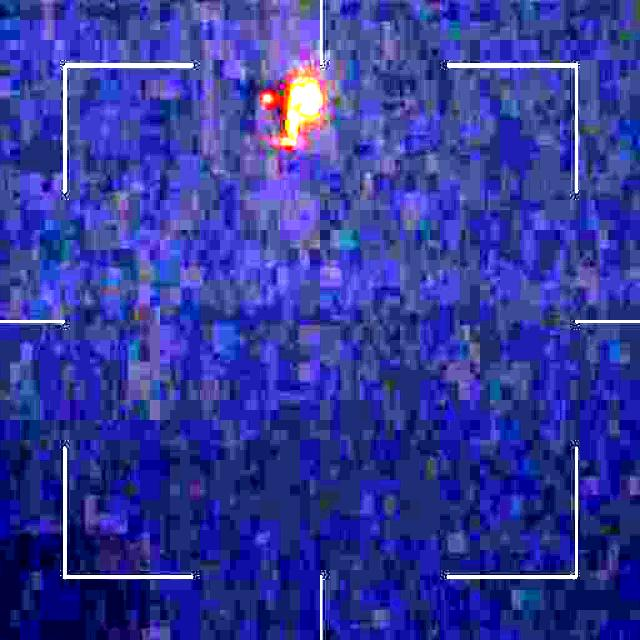bird: (250, 78, 325, 149)
